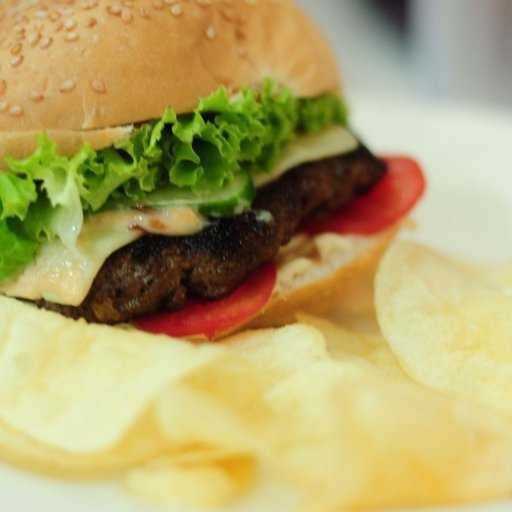hamburger: (1, 1, 354, 344)
